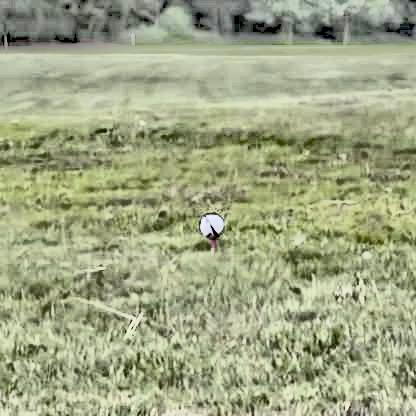golfball: (197, 212, 216, 234)
